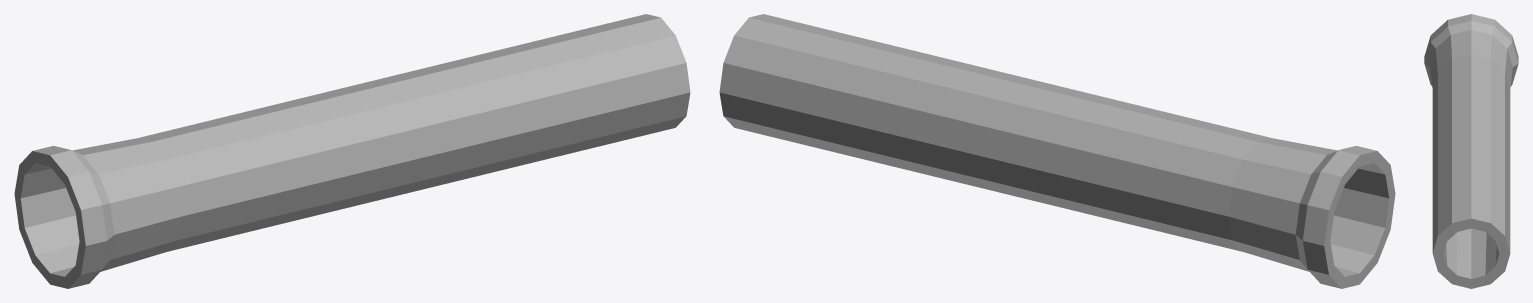
The model's file is ConcretePipe.fbx.
3 views of the same model, side by side, from view 1: azimuth 30°, elevation 25°; view 2: azimuth 150°, elevation 25°; view 3: azimuth 270°, elevation 25° (orthographic). The views are drawn at different scales.
Parts seen in each view (by area): view 1: Cylinder; view 2: Cylinder; view 3: Cylinder.
Part boxes in pixels (x1=…): Cylinder: x1=14, y1=14, x2=690, y2=288; Cylinder: x1=719, y1=14, x2=1395, y2=288; Cylinder: x1=1424, y1=14, x2=1518, y2=288.
Size of the model in its own units: 600 by 121 by 121.
